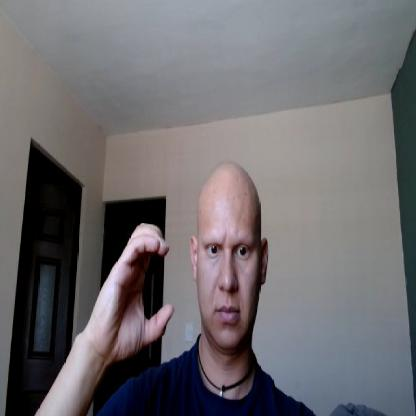C: (95, 222, 174, 358)
